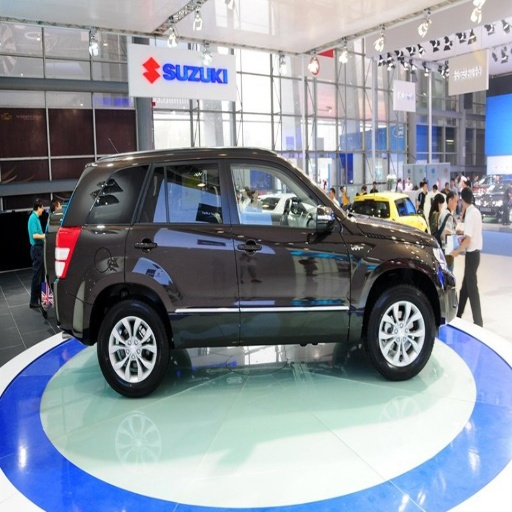back_right_door: (133, 154, 238, 337)
